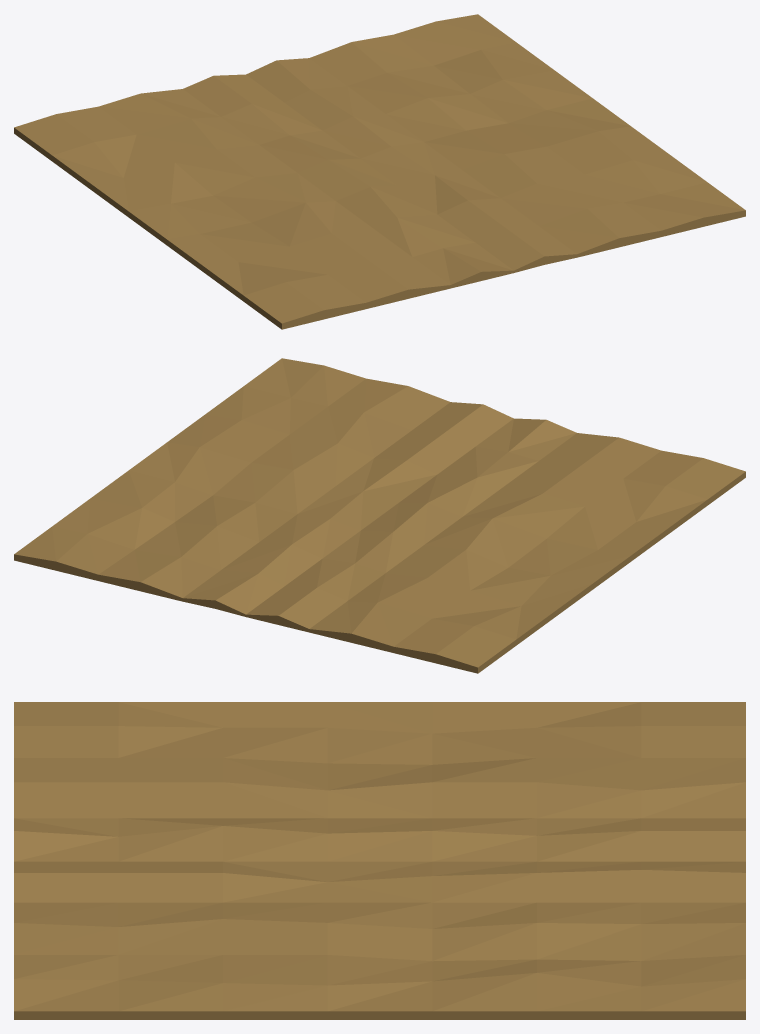
The model's file is Farmland_1_0.fbx.
The picture shows the model from 3 angles, top to bottom: view 1: azimuth 30°, elevation 25°; view 2: azimuth 150°, elevation 25°; view 3: azimuth 270°, elevation 25°; orthographic projection. The views are drawn at different scales.
Parts seen in each view (by area): view 1: Soil; view 2: Soil; view 3: Soil.
Boxes of the visible parts, x1=… form: Soil: x1=14, y1=14, x2=745, y2=329; Soil: x1=14, y1=358, x2=745, y2=673; Soil: x1=14, y1=702, x2=745, y2=1019.
Size of the model in its own units: 608 by 11.53 by 608.
